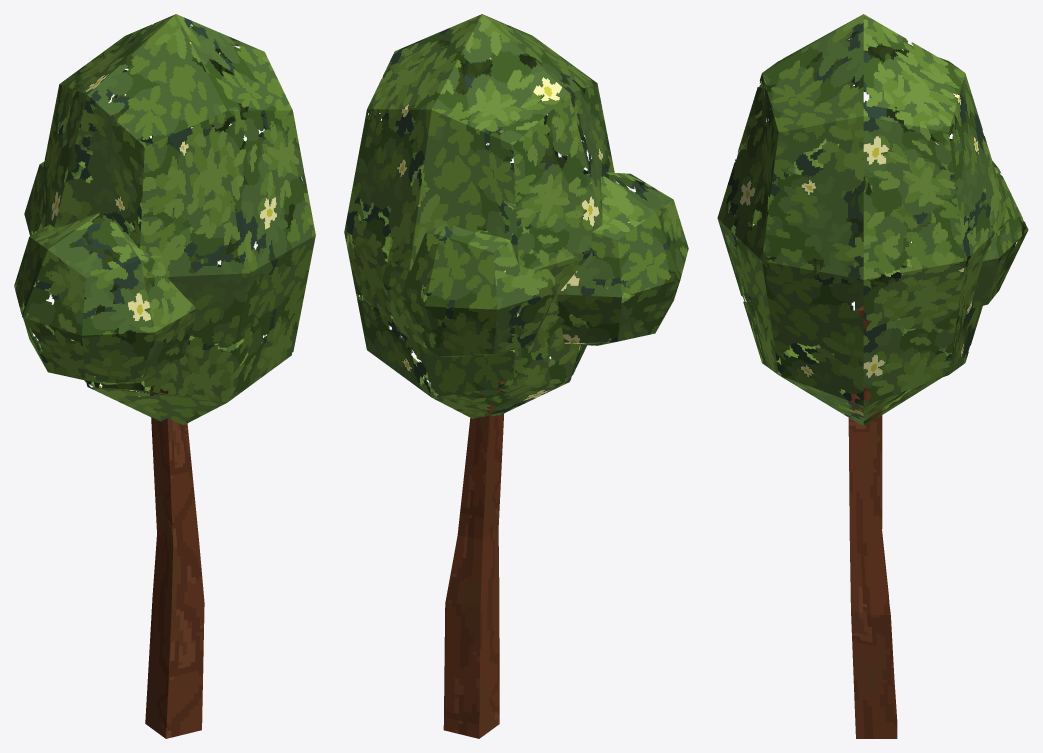
The model's file is Tree.fbx.
3 renders of one model, left to right at view 1: azimuth 30°, elevation 25°; view 2: azimuth 150°, elevation 25°; view 3: azimuth 270°, elevation 25°, orthographic.
Visible parts, largest first — view 1: Plane.002, Cube.002; view 2: Plane.002, Cube.002; view 3: Plane.002, Cube.002.
Part boxes in pixels (box(x1,y1,x2,y2)): Plane.002: box(14, 14, 315, 425); Cube.002: box(145, 339, 204, 738); Plane.002: box(344, 14, 688, 418); Cube.002: box(443, 381, 504, 738); Plane.002: box(717, 14, 1028, 425); Cube.002: box(848, 306, 897, 738).
Size of the model in its own units: 31.25 by 70.39 by 27.79.
